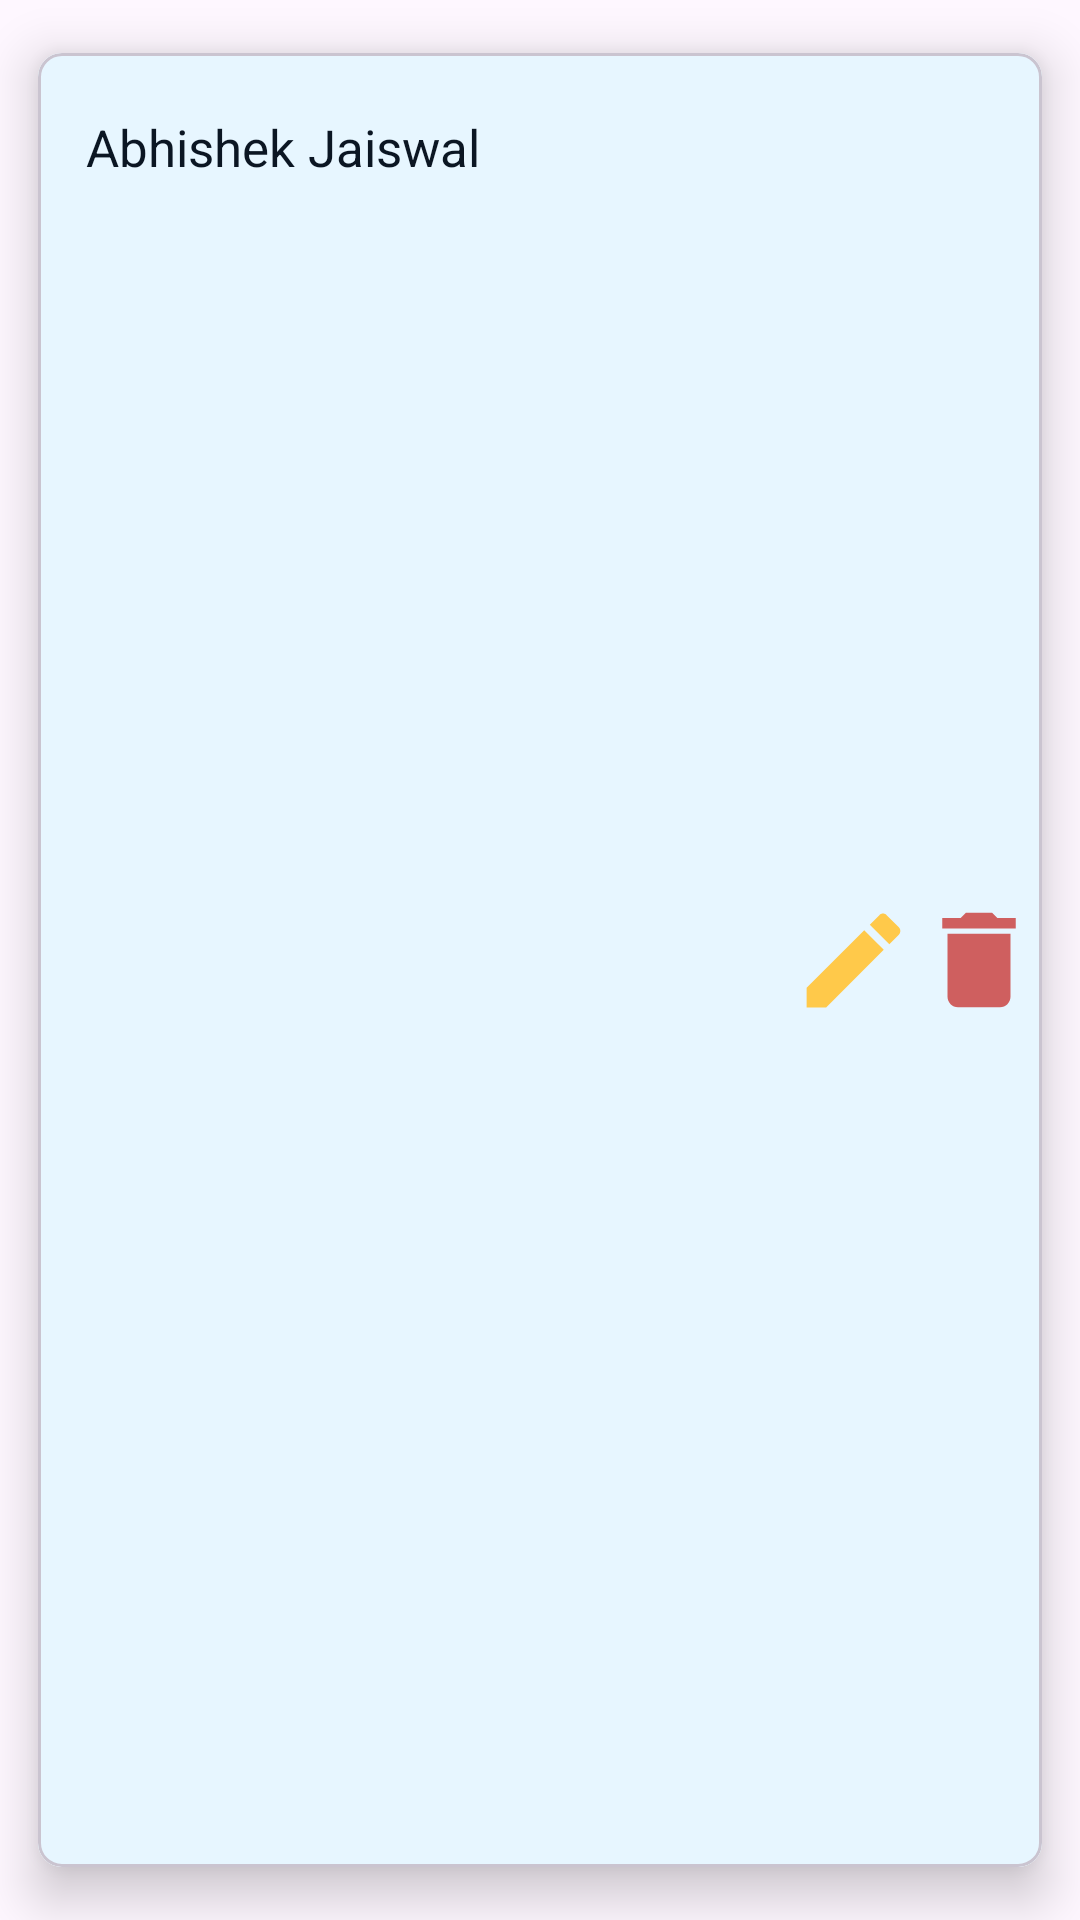

Icons on this 1080px x 1920px Android screen, each with the point to tap as (x,y):
delete: (979,960)
edit: (853,960)
